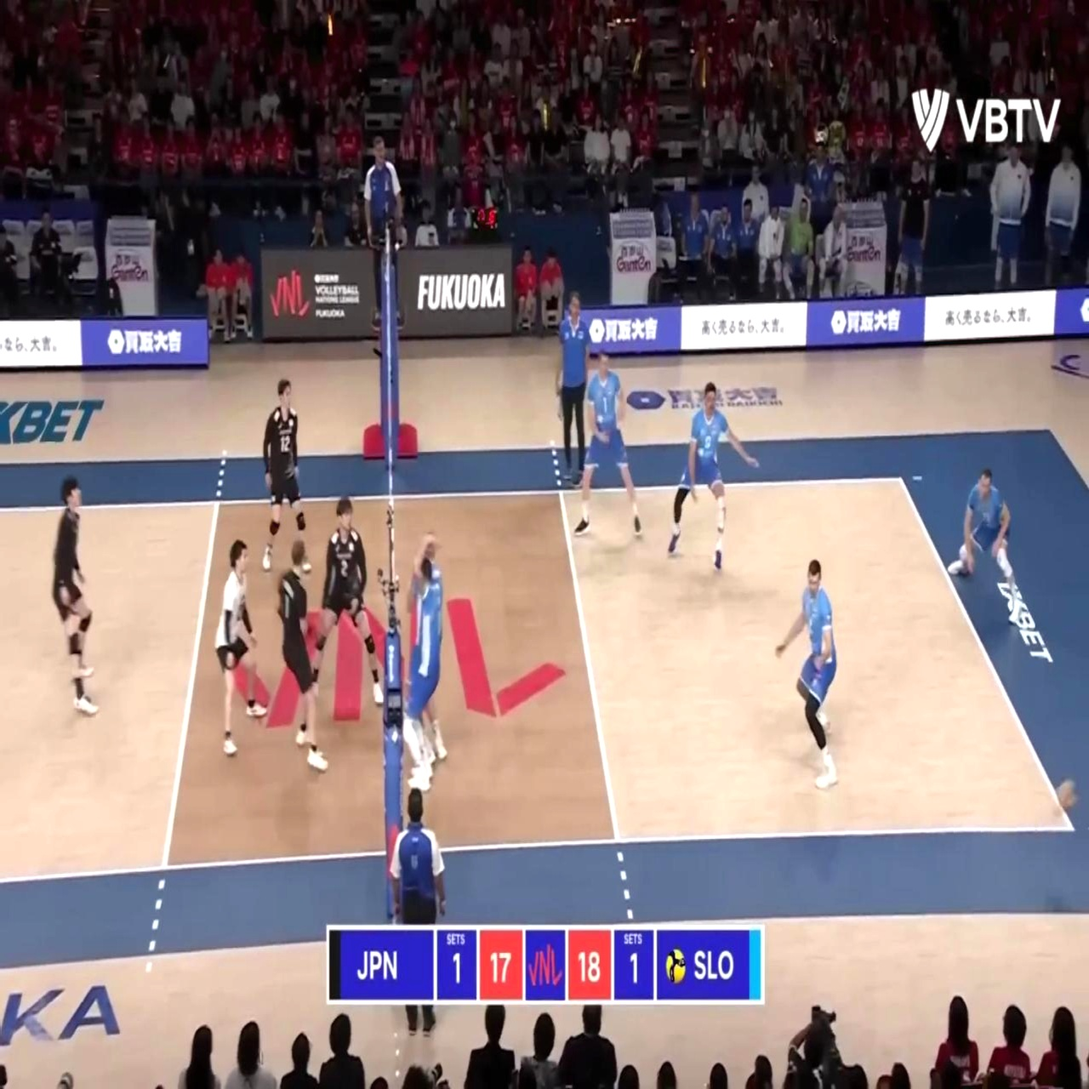ball: (1055, 779, 1075, 812)
